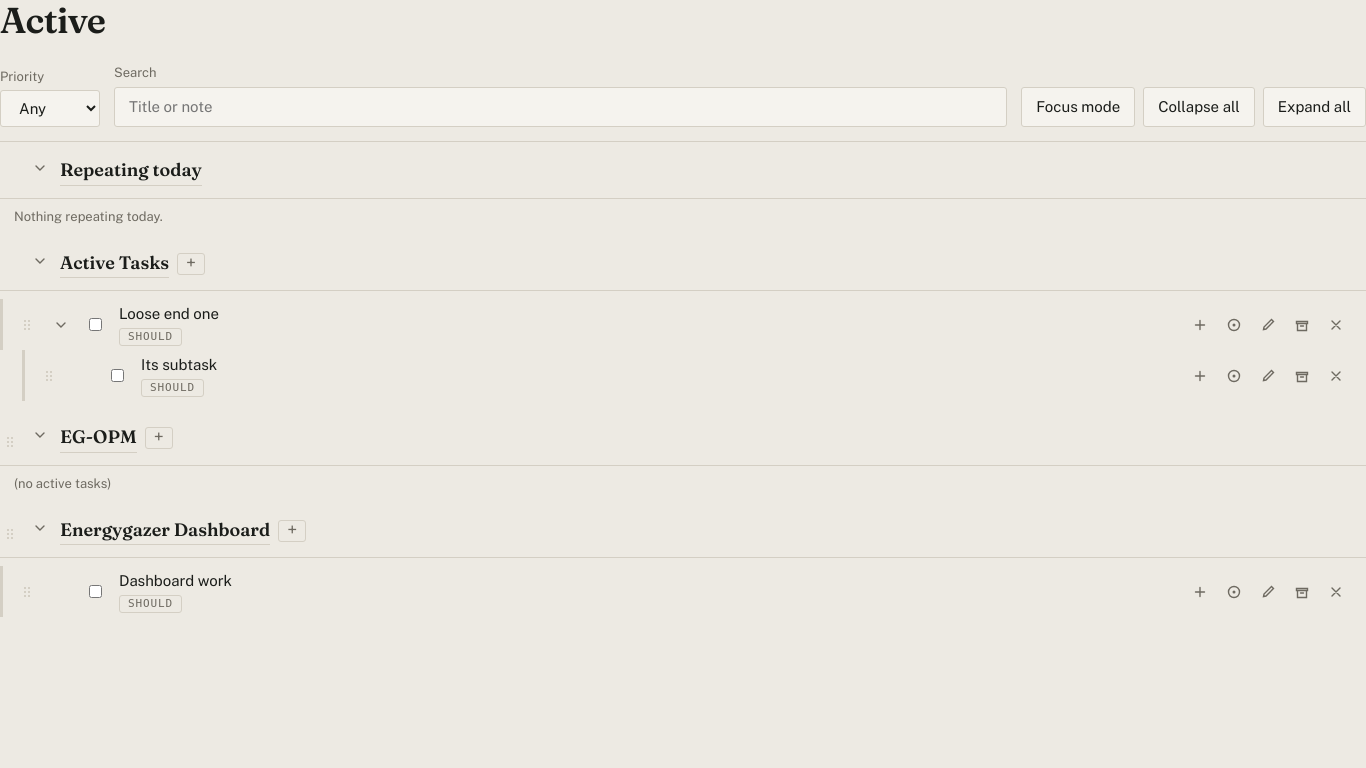
Test: editing a task › offers a category picker when editing, so a misfiled task can be moved
The image size is (1366, 768).
Expected: the text "Loose end one" is shown, [119,305,219,322]
Click the 6th button named "edit Loose end one": [1268, 325] box [1252,309,1284,341]
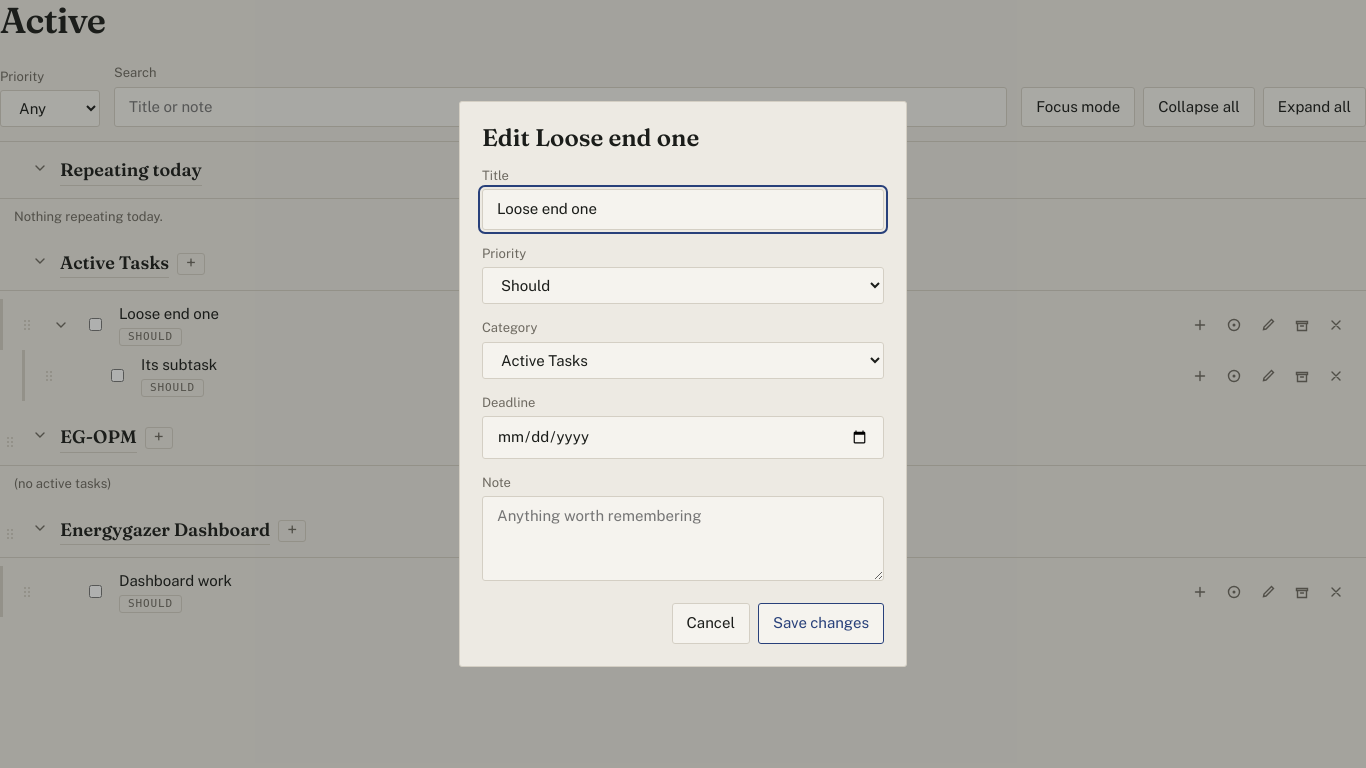
Expected: the dropdown labelled "Category" is shown, [482,342,884,378]
